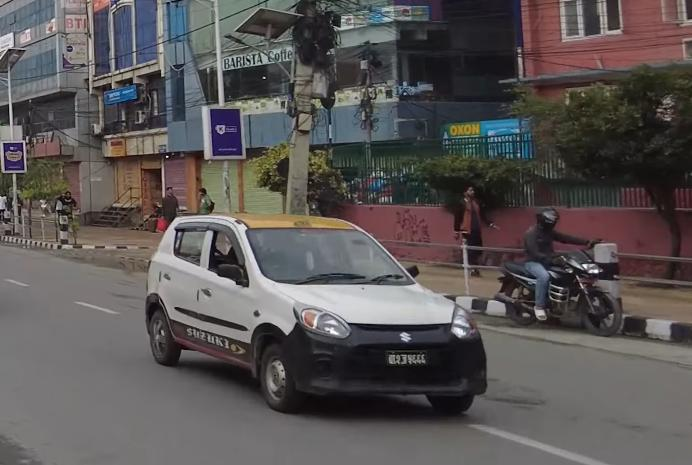bike: (493, 236, 631, 337)
taxi: (145, 207, 493, 419)
